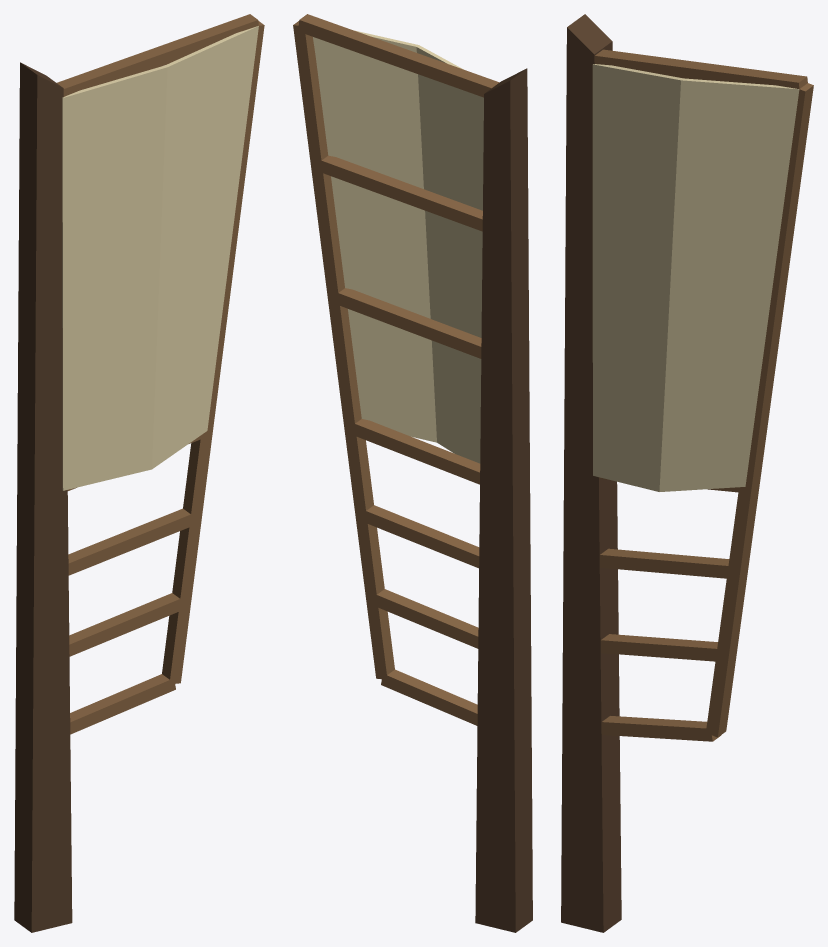
Rendered from cloth_sail.glb.
The picture shows the model from 3 angles, left to right: view 1: azimuth 30°, elevation 25°; view 2: azimuth 150°, elevation 25°; view 3: azimuth 330°, elevation 25°; orthographic projection. The views are drawn at different scales.
Parts seen in each view (by area): view 1: Cloth sail; view 2: Cloth sail; view 3: Cloth sail.
Part boxes in pixels (left/top/right/bottom): Cloth sail: left=14, top=14, right=264, bottom=932; Cloth sail: left=293, top=14, right=532, bottom=932; Cloth sail: left=561, top=14, right=813, bottom=932.
Size of the model in its own units: 0.7463 by 2.62 by 0.169.
